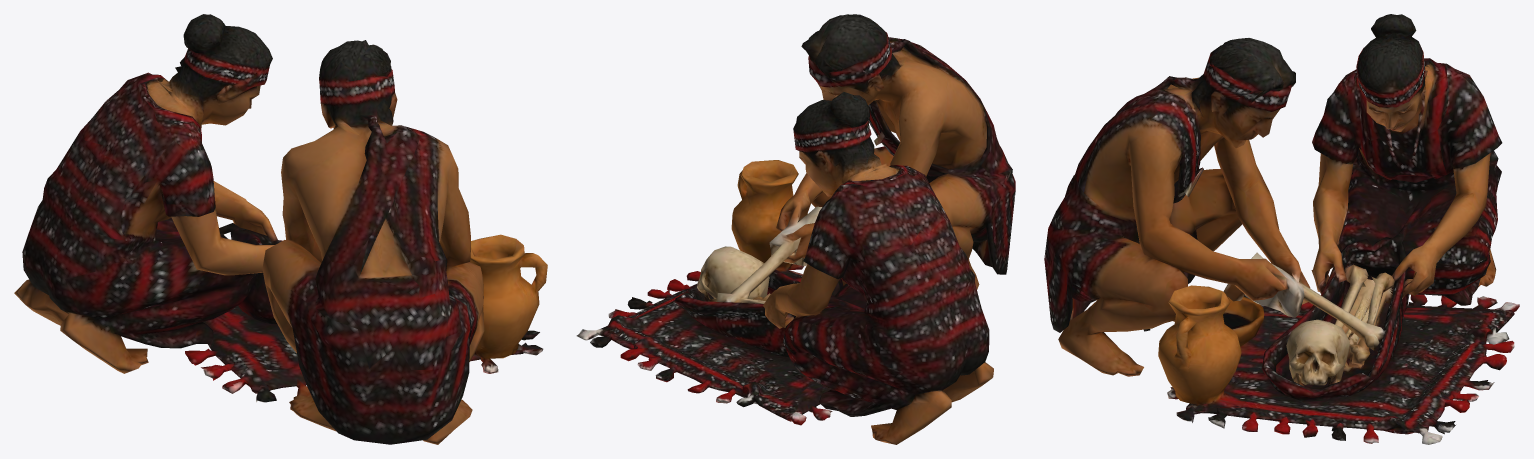
The model's file is Bogwa-512(10k).glb.
3 renders of one model, left to right at view 1: azimuth 30°, elevation 25°; view 2: azimuth 150°, elevation 25°; view 3: azimuth 270°, elevation 25°, orthographic. The views are drawn at different scales.
Parts seen in each view (by area): view 1: tripo_node_c8b9d442-3f71-446c-8b00-7f8e048f36ec; view 2: tripo_node_c8b9d442-3f71-446c-8b00-7f8e048f36ec; view 3: tripo_node_c8b9d442-3f71-446c-8b00-7f8e048f36ec.
Part boxes in pixels (box(x1,y1,x2,y2)): tripo_node_c8b9d442-3f71-446c-8b00-7f8e048f36ec: box(14, 14, 547, 444); tripo_node_c8b9d442-3f71-446c-8b00-7f8e048f36ec: box(576, 14, 1015, 444); tripo_node_c8b9d442-3f71-446c-8b00-7f8e048f36ec: box(1044, 14, 1519, 444).
Size of the model in its own units: 0.9777 by 0.7242 by 0.9797.
1 material, 1 textured.
